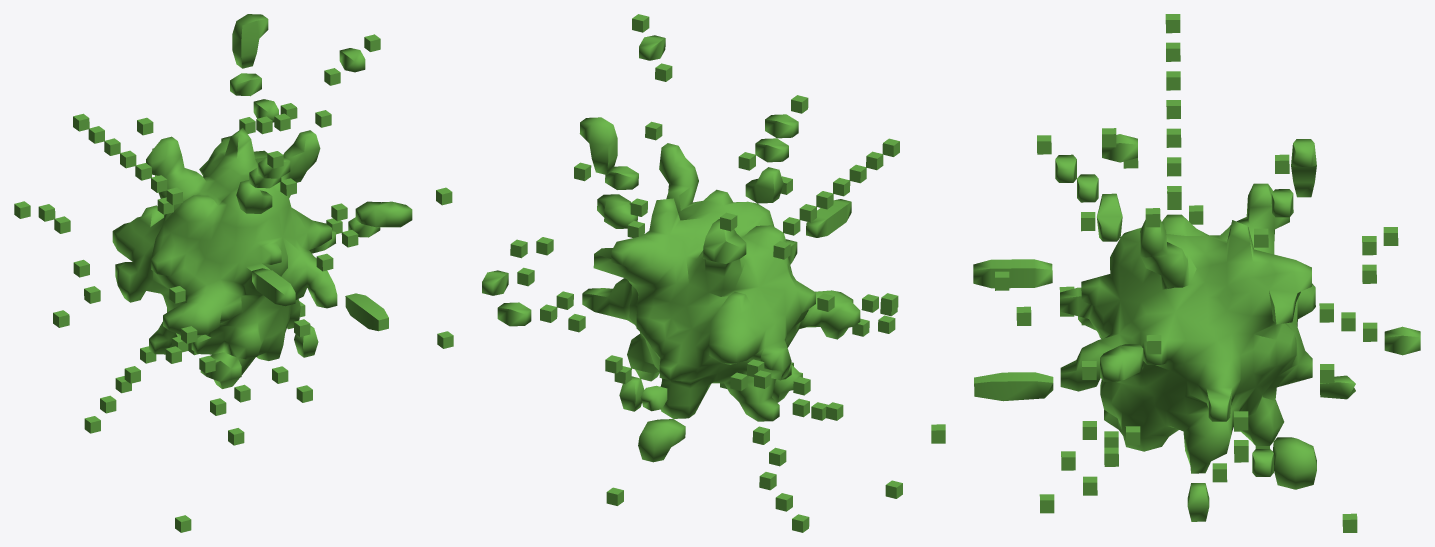
The model's file is tentaclesCracked2.fbx.
3 renders of one model, left to right at view 1: azimuth 30°, elevation 25°; view 2: azimuth 150°, elevation 25°; view 3: azimuth 270°, elevation 25°, orthographic. The views are drawn at different scales.
Visible parts, largest first — view 1: Volume_Mesher; view 2: Volume_Mesher; view 3: Volume_Mesher.
Part boxes in pixels (x1=…): Volume_Mesher: x1=14, y1=14, x2=453, y2=532; Volume_Mesher: x1=482, y1=14, x2=902, y2=532; Volume_Mesher: x1=931, y1=14, x2=1420, y2=532.
Size of the model in its own units: 21.75 by 25.8 by 22.64.
